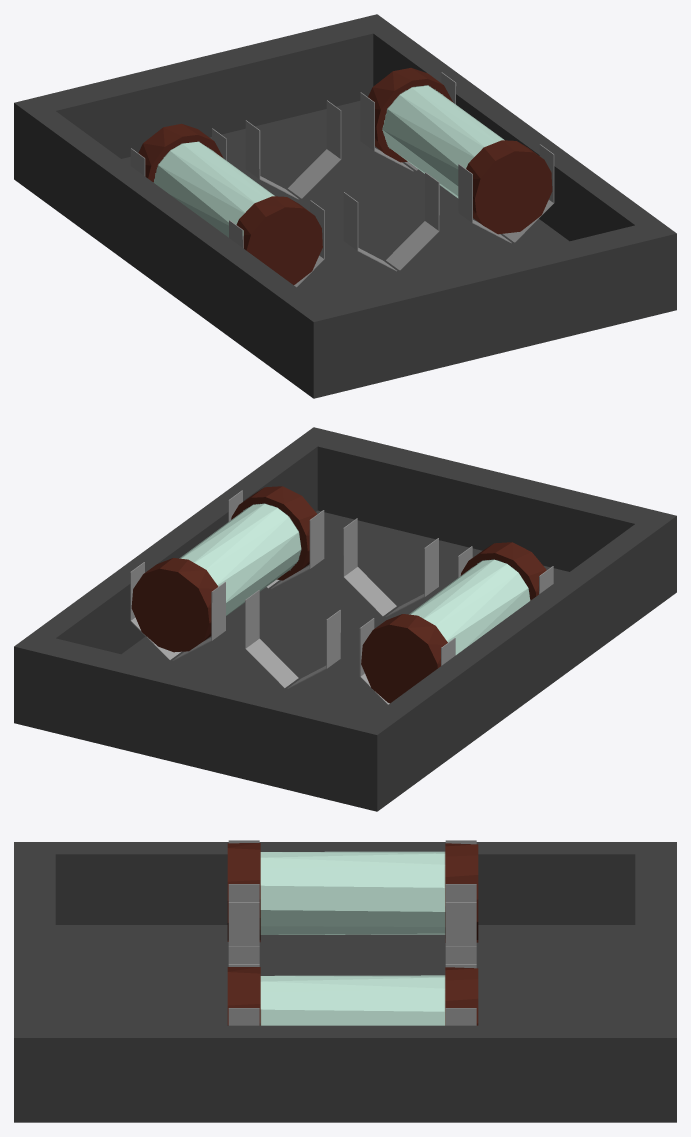
The model's file is FuseBox.fbx.
3 renders of one model, top to bottom at view 1: azimuth 30°, elevation 25°; view 2: azimuth 150°, elevation 25°; view 3: azimuth 270°, elevation 25°, orthographic. The views are drawn at different scales.
Visible parts, largest first — view 1: Cylinder.002; view 2: Cylinder.002; view 3: Cylinder.002.
Boxes of the visible parts, x1=… form: Cylinder.002: x1=14, y1=14, x2=676, y2=398; Cylinder.002: x1=14, y1=427, x2=676, y2=811; Cylinder.002: x1=14, y1=840, x2=676, y2=1122.
Bounding box in the file's own units: 890 × 244 × 1272.
Materials: 1 (1 with a texture image).
